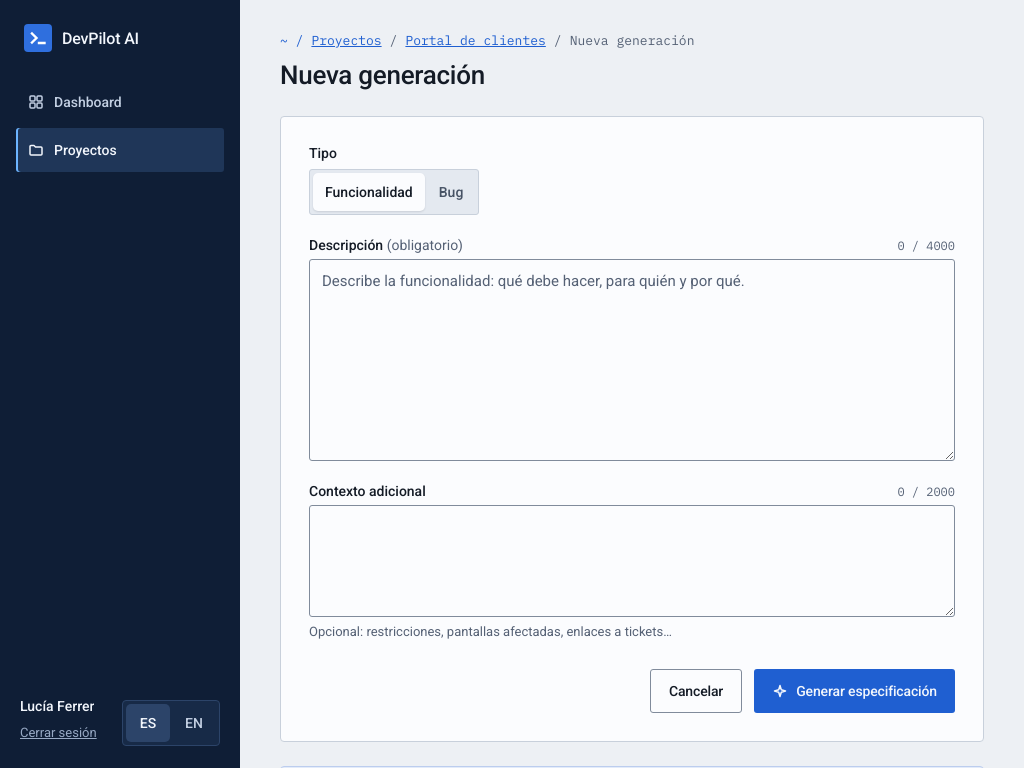
Test case: a new generation › does not send a description shorter than 20 characters
Type "corto" into the text box labelled "Descripción (obligatorio)" at coordinates (632, 360), box 309,258 -> 955,460
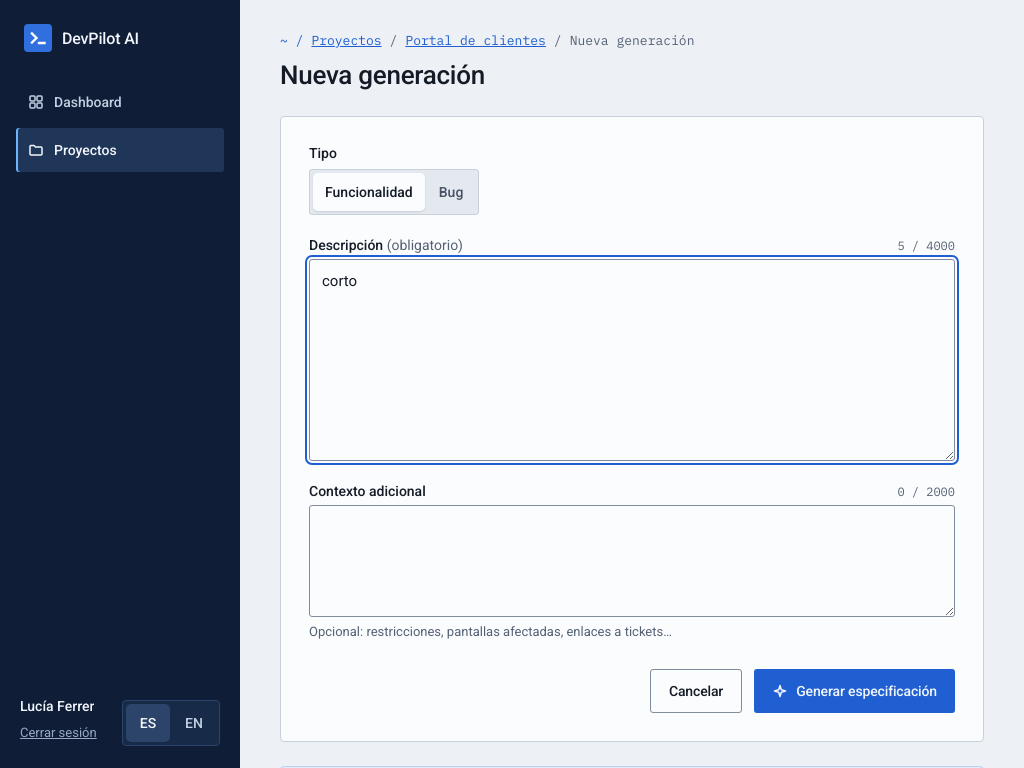
Click the button "Generar especificación" at coordinates (855, 691), box 754,669 -> 955,713
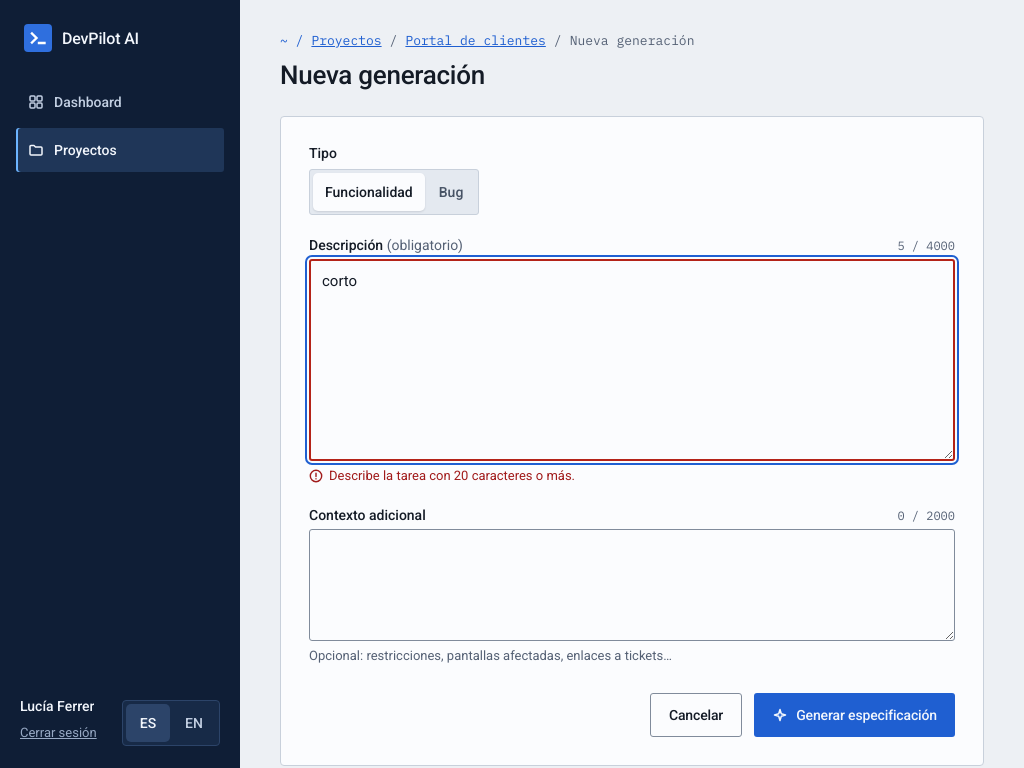
Result: the text "Describe la tarea con 20 caracteres o más." is shown at 329,466 -> 575,485
